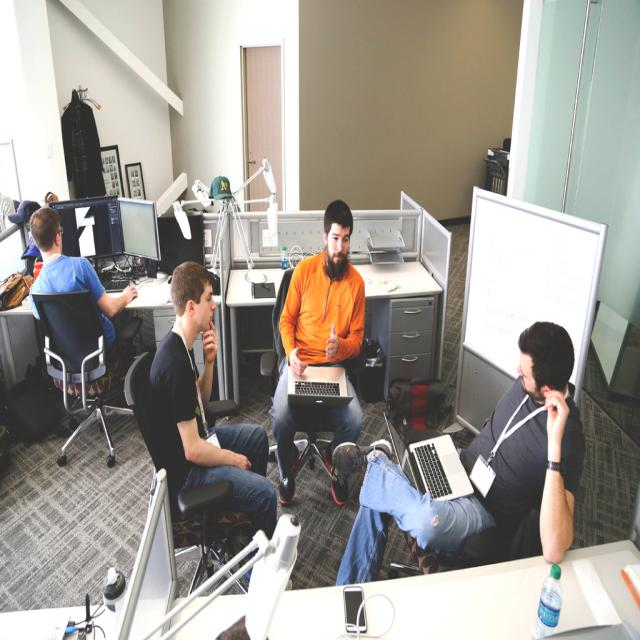chair: (122, 352, 240, 595), (30, 289, 126, 466)
desk: (173, 539, 640, 640)
laptop: (382, 404, 476, 501)
person: (338, 320, 584, 574), (148, 261, 278, 537), (271, 200, 366, 502), (27, 205, 142, 368)
tv: (118, 196, 160, 261)
